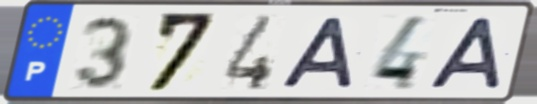3: (72, 15, 138, 91)
4: (364, 13, 430, 93), (220, 13, 275, 93)
7: (146, 10, 219, 95)
A: (424, 14, 506, 91), (277, 15, 357, 91)
